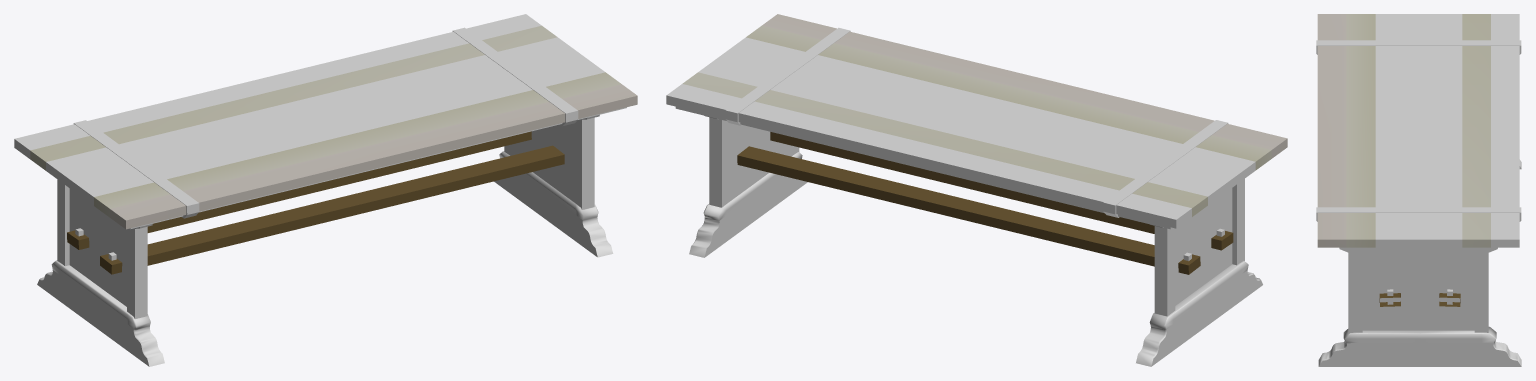
The model's file is opt_table_long.glb.
3 views of the same model, side by side, from view 1: azimuth 30°, elevation 25°; view 2: azimuth 150°, elevation 25°; view 3: azimuth 270°, elevation 25° (orthographic). The views are drawn at different scales.
Parts seen in each view (by area): view 1: opt_table_long; view 2: opt_table_long; view 3: opt_table_long.
Part boxes in pixels (bbox=[...]): opt_table_long: bbox=[14, 14, 637, 366]; opt_table_long: bbox=[666, 14, 1287, 366]; opt_table_long: bbox=[1316, 14, 1521, 366].
Bounding box in the file's own units: 2.85 × 0.8135 × 1.1.
